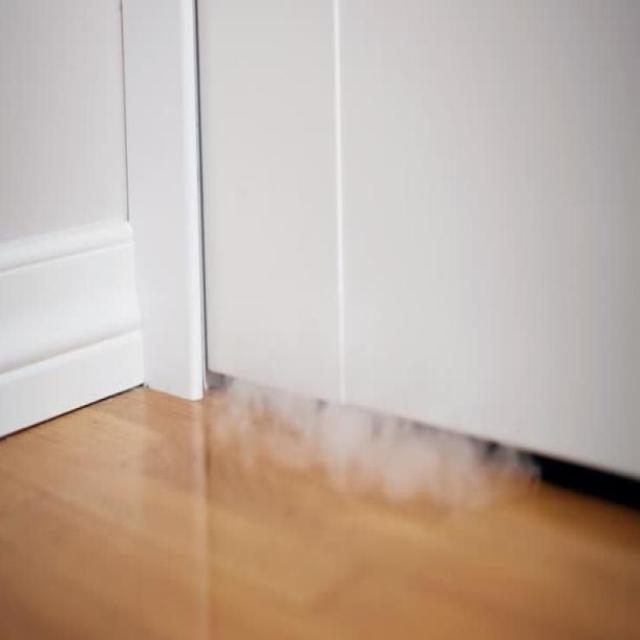fire: (215, 358, 540, 506)
